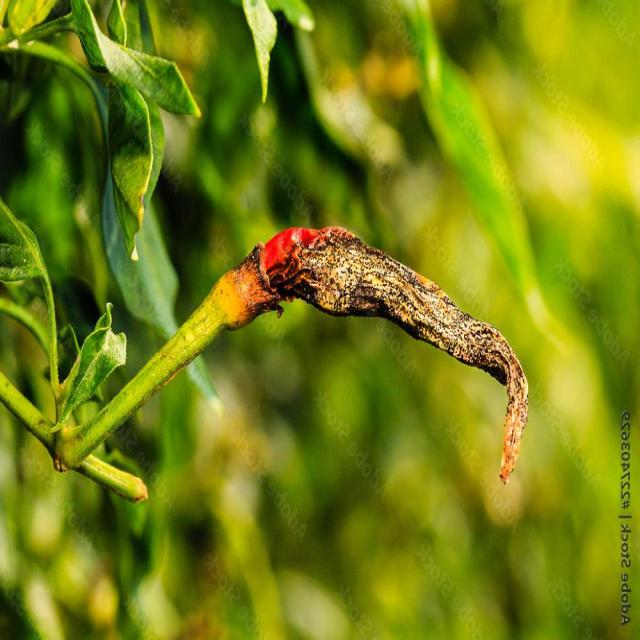Chili_anthracnose: (200, 201, 560, 485)
